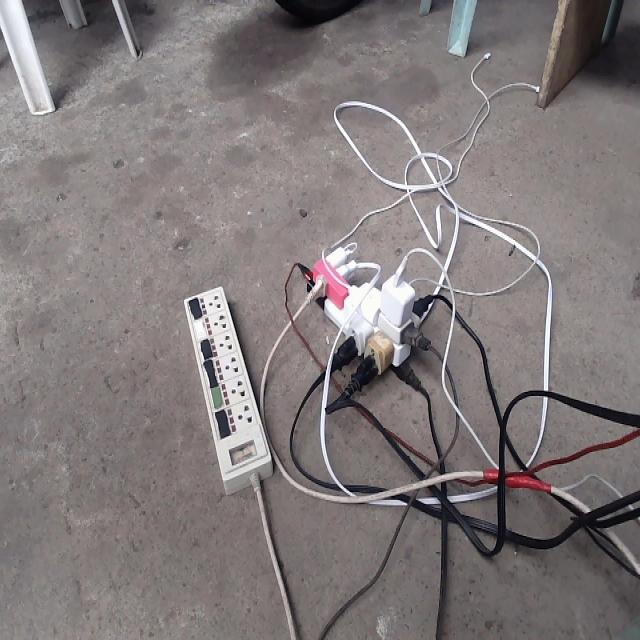-: (283, 240, 445, 409)
